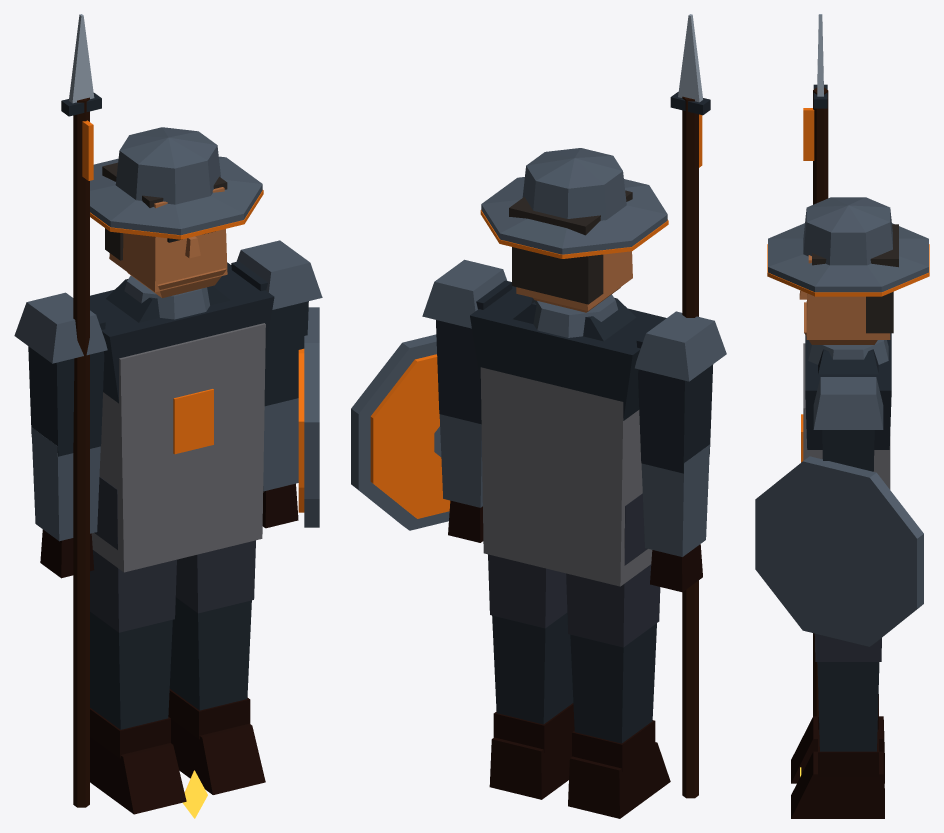
File: SentinelaOrvo.fbx
3 renders of one model, left to right at view 1: azimuth 30°, elevation 25°; view 2: azimuth 150°, elevation 25°; view 3: azimuth 270°, elevation 25°, orthographic. The views are drawn at different scales.
Visible parts, largest first — view 1: Body, ArmR, LegR, Head, LegL, ArmL; view 2: Body, ArmR, ArmL, LegR, Head, LegL; view 3: ArmL, Head, LegL, Body, ArmR, LegR.
Boxes of the visible parts, x1,y1,x2,y2 form: Body: (90, 262, 274, 818); ArmR: (14, 14, 107, 807); LegR: (90, 476, 186, 814); Head: (90, 127, 263, 297); LegL: (168, 540, 265, 794); ArmL: (231, 240, 322, 528); Body: (470, 286, 666, 586); ArmR: (635, 14, 726, 798); ArmL: (351, 259, 512, 542); LegR: (566, 493, 670, 818); Head: (480, 148, 668, 312); LegL: (488, 554, 574, 799); ArmL: (755, 377, 923, 646); Head: (767, 197, 929, 344); LegL: (791, 633, 884, 818); Body: (800, 333, 891, 776); ArmR: (803, 14, 828, 716); LegR: (791, 694, 884, 783).
Size of the model in its own units: 0.9826 by 2.38 by 0.4998.
